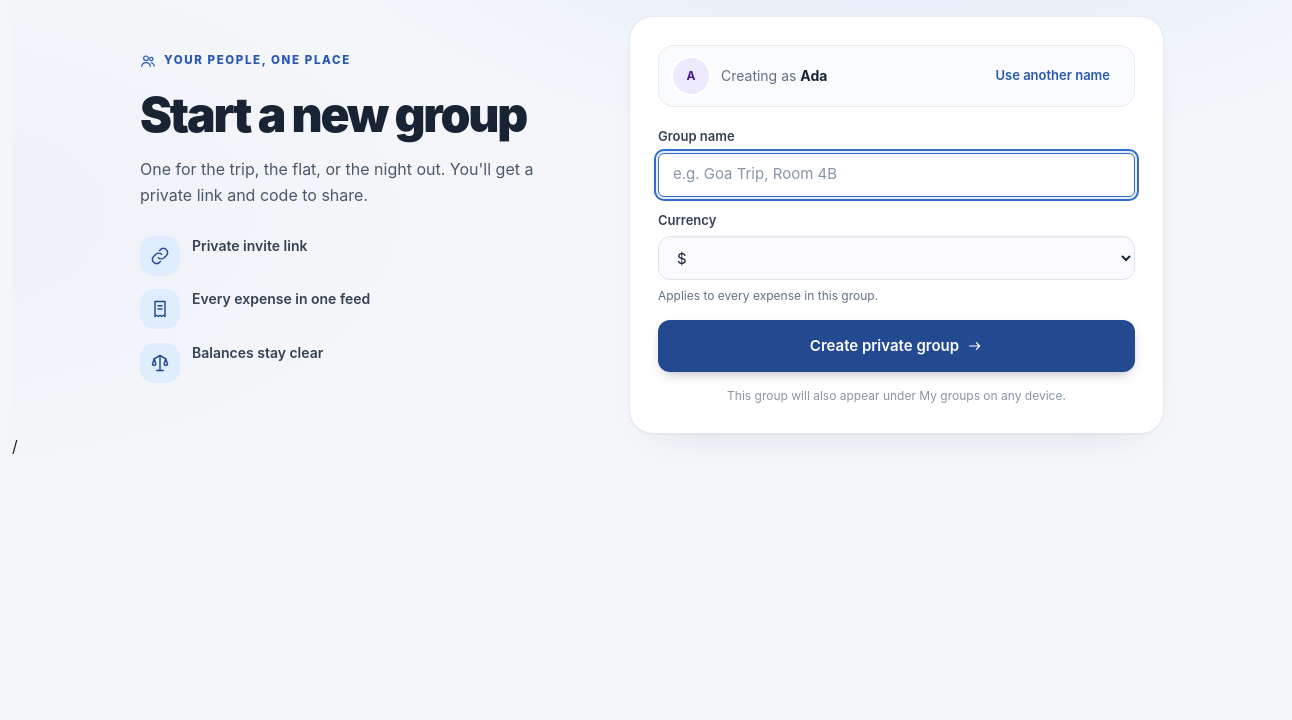
Scenario: CreateGroup › refuses while offline
This screenshot has width=1292, height=720.
Type "Goa" into the field labelled "Group name".
click(896, 174); type("Goa")  # box top-left (658, 152), bottom-right (1135, 196)
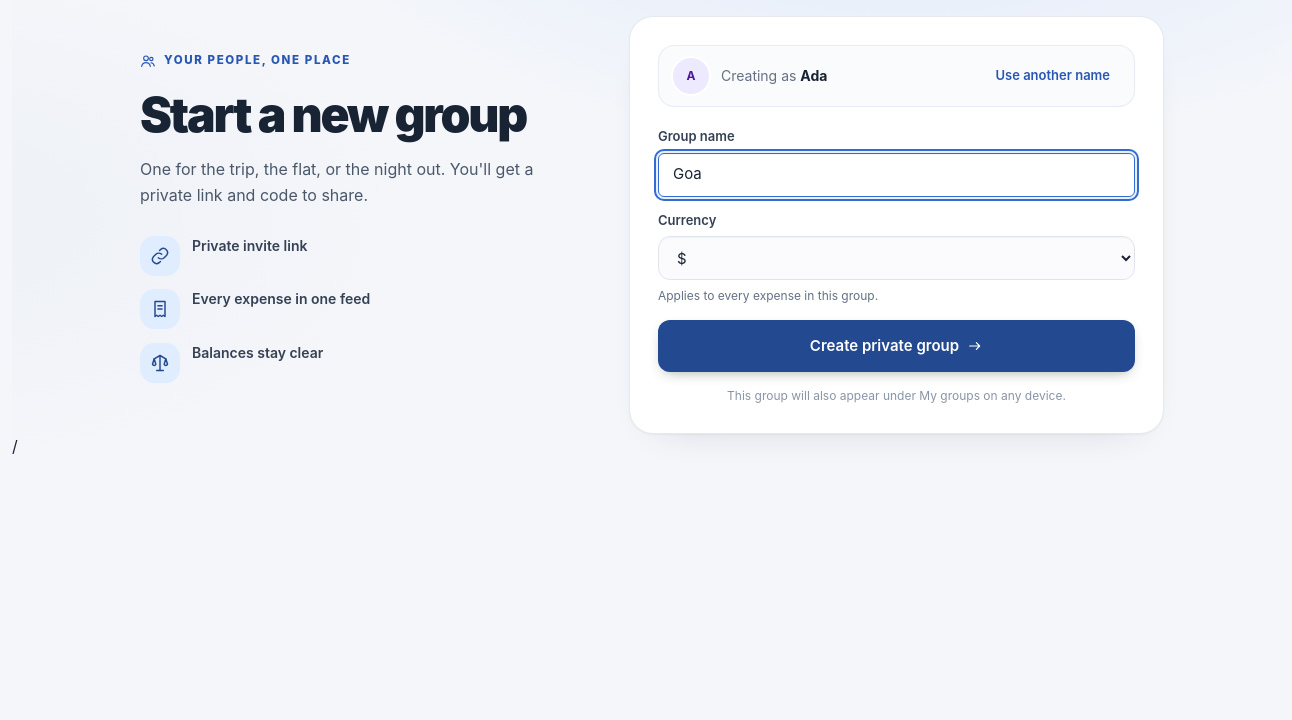
Click the button "Create private group".
click(896, 346)  # box top-left (658, 320), bottom-right (1135, 372)
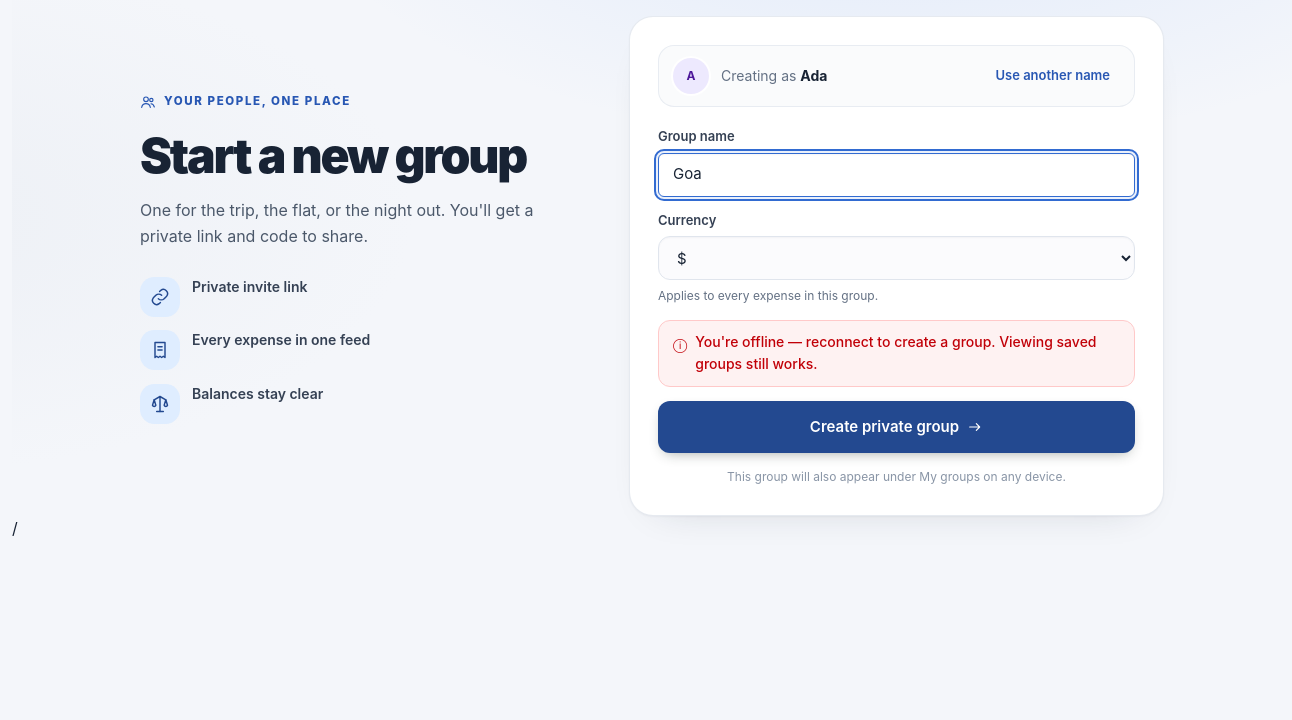
expect the message shows "You're offline": met, box top-left (695, 332), bottom-right (1096, 372)
